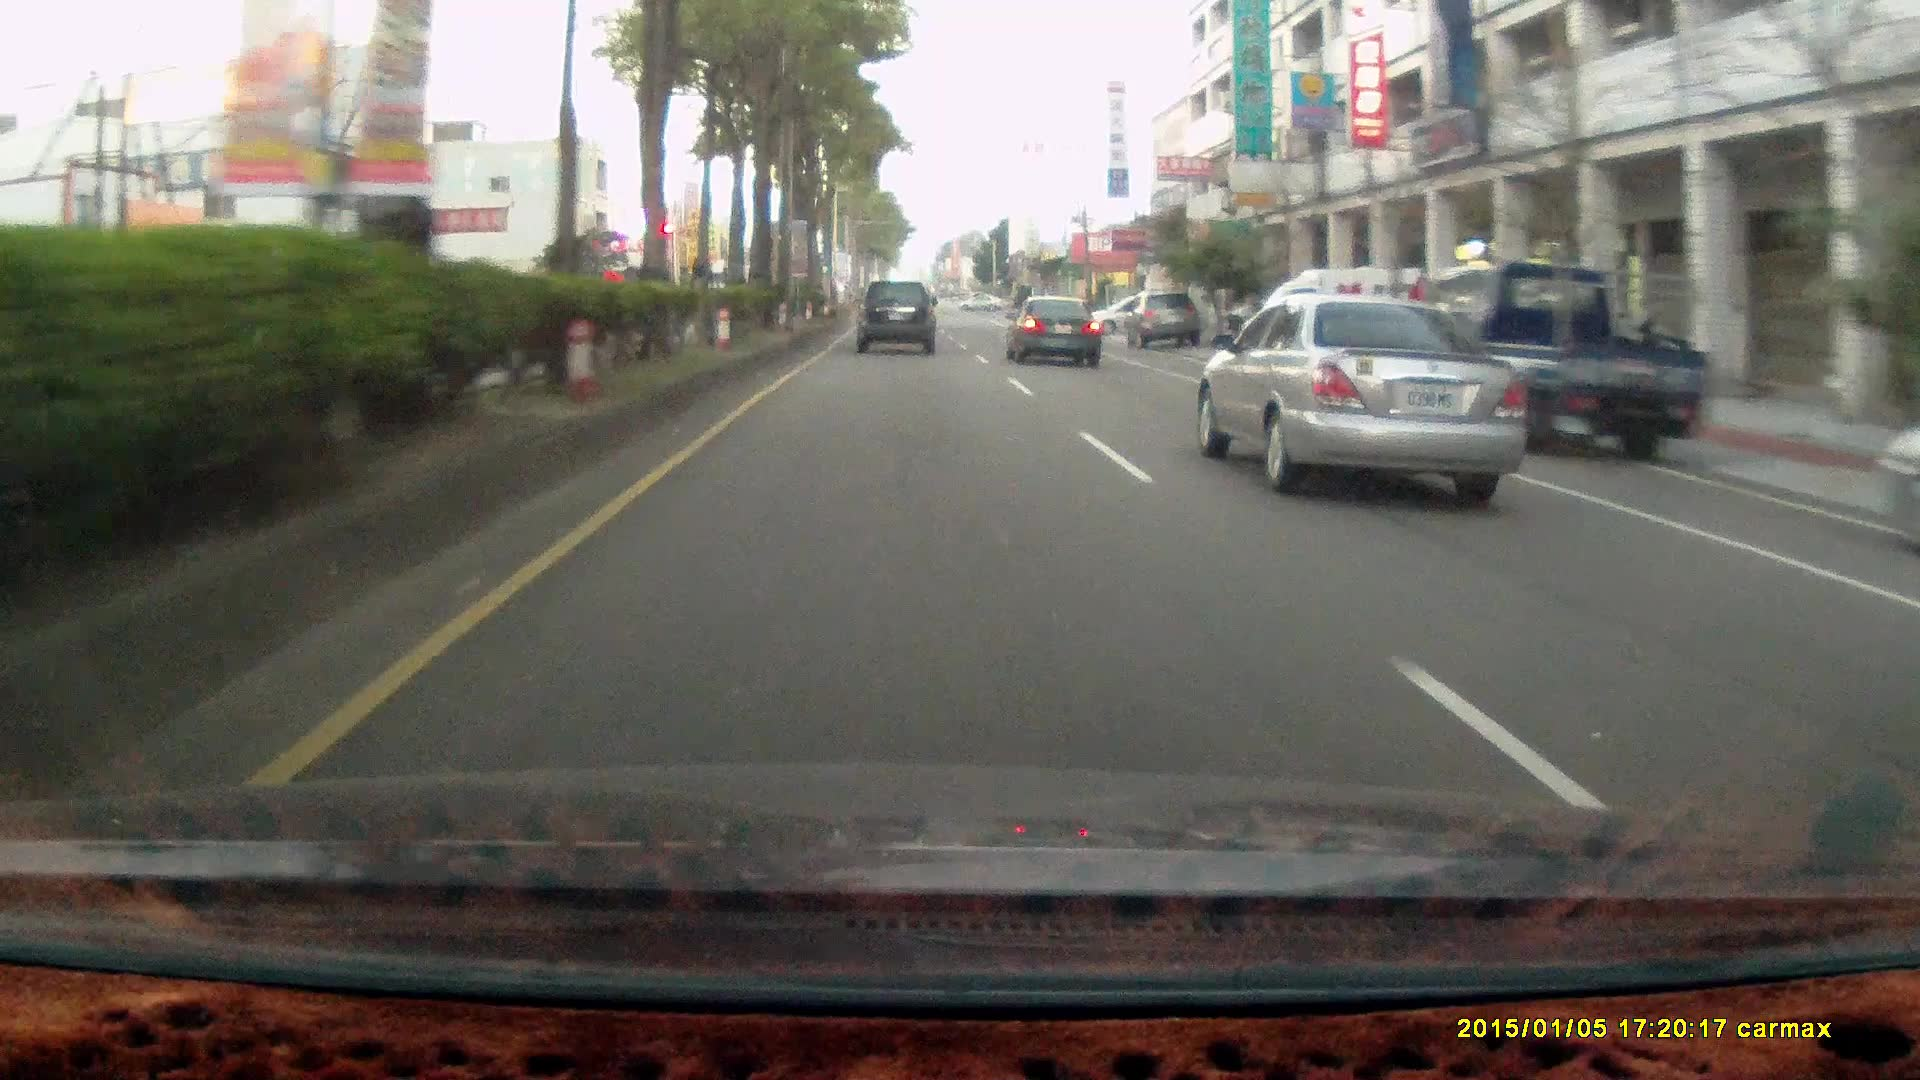vehicle: (1201, 289, 1528, 496), (1410, 262, 1712, 462), (1433, 262, 1713, 456), (1247, 265, 1433, 382), (1004, 297, 1106, 371), (1004, 294, 1098, 367), (856, 284, 943, 361), (1870, 423, 1920, 553), (855, 280, 934, 353), (1129, 290, 1203, 349)
